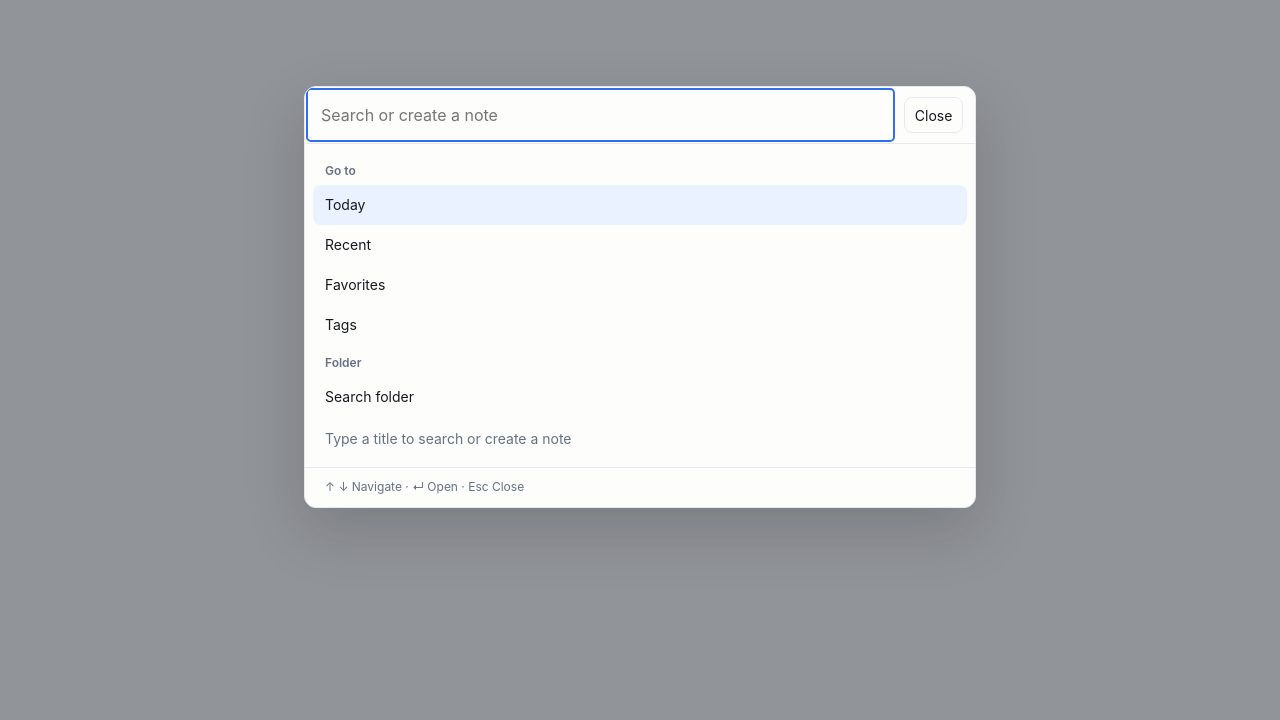
NotePicker › keeps create available when a partial match exists
Type "pla" into the search field with placeholder "Search or create a note". click: coordinates (601, 115)
box: [305,87,896,143]
Wait 120 ms
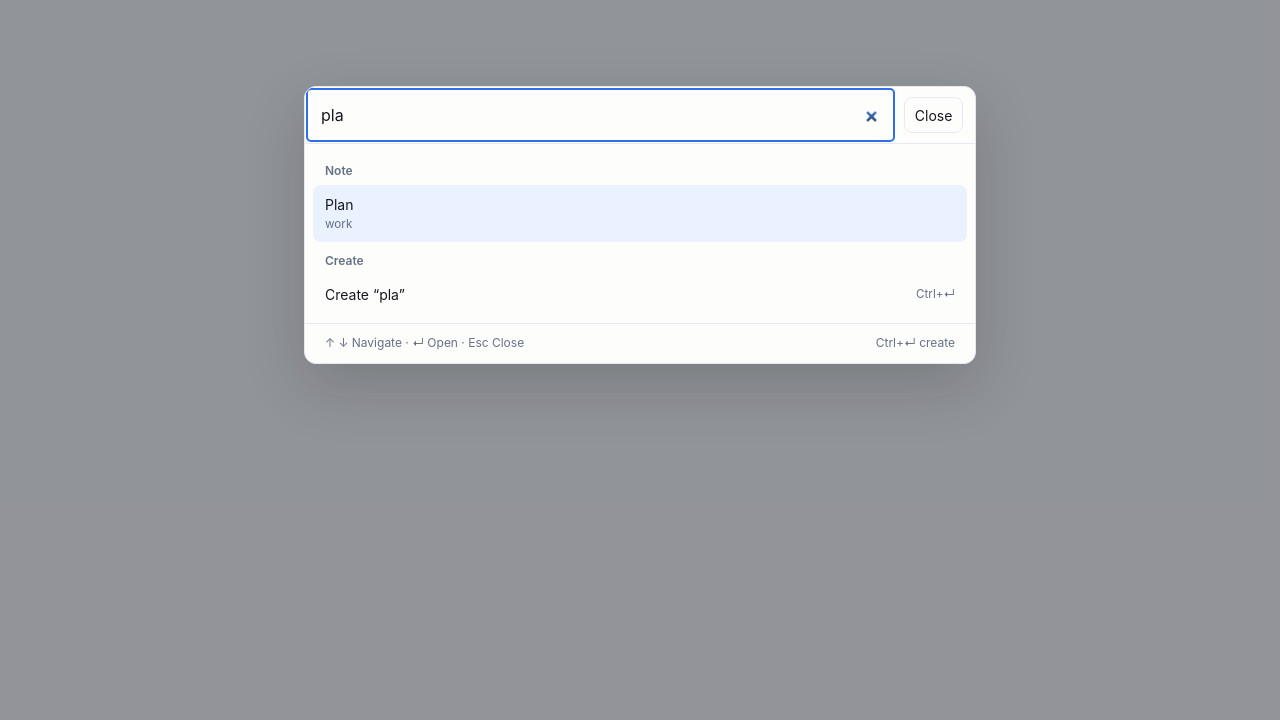
expect the text "Plan" is shown: met, box [325,194,354,215]
expect the text "work" is shown: met, box [325,216,352,234]
expect the text "Create “pla”" is shown: met, box [325,284,405,305]
